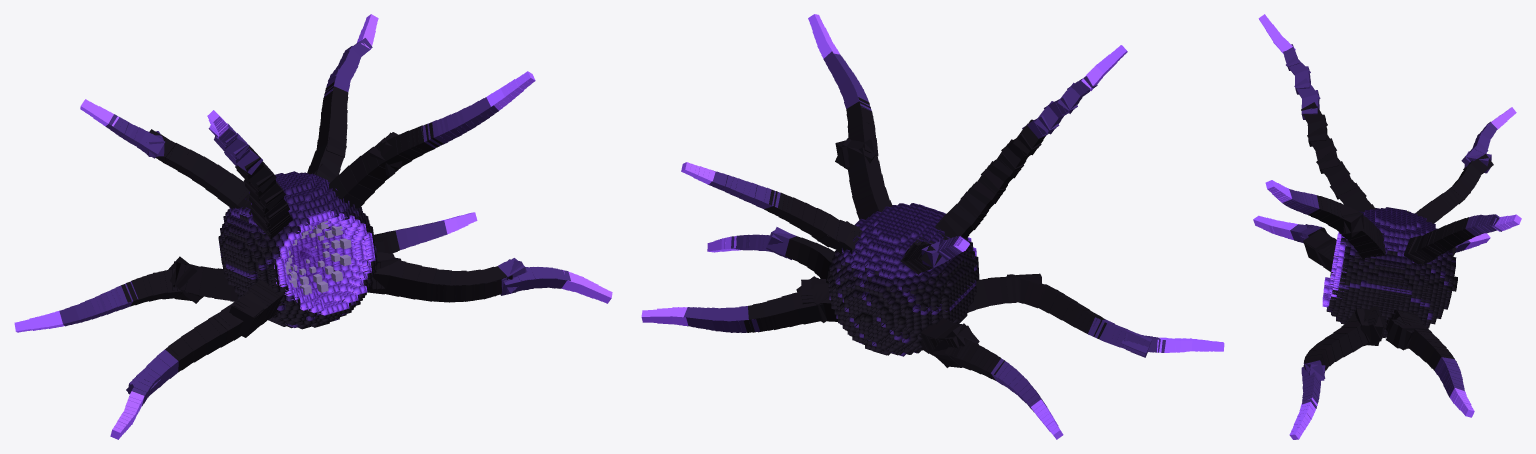
File: cosmic-horror.glb
3 renders of one model, left to right at view 1: azimuth 30°, elevation 25°; view 2: azimuth 150°, elevation 25°; view 3: azimuth 270°, elevation 25°, orthographic. The views are drawn at different scales.
Parts seen in each view (by area): view 1: body_voxels, gullet_voxels, tentacle_01_bone_08, tentacle_00_bone_06, tentacle_01_bone_09, tentacle_01_bone_10, tentacle_00_bone_09, tentacle_01_bone_06, tentacle_01_bone_07, tentacle_05_bone_03, tentacle_05_bone_07, tentacle_05_bone_02 (+1 smaller); view 2: body_voxels, tentacle_05_bone_02, tentacle_05_bone_03, tentacle_03_bone_05, tentacle_03_bone_06, tentacle_04_bone_03; view 3: body_voxels, gullet_voxels, tentacle_03_bone_04, tentacle_05_bone_06, tentacle_03_bone_03, tentacle_01_bone_03, tentacle_05_bone_02, tentacle_07_bone_04, tentacle_04_bone_04, tentacle_05_bone_03, tentacle_07_bone_02, tentacle_04_bone_06 (+23 smaller).
Boxes of the visible parts, box(x1,y1,x2,y2) form: body_voxels: box(218, 171, 377, 329); gullet_voxels: box(274, 210, 375, 315); tentacle_01_bone_08: box(427, 269, 461, 302); tentacle_00_bone_06: box(229, 299, 267, 337); tentacle_01_bone_09: box(446, 270, 479, 302); tentacle_01_bone_10: box(465, 269, 496, 301); tentacle_00_bone_09: box(203, 308, 239, 347); tentacle_01_bone_06: box(399, 262, 421, 299); tentacle_01_bone_07: box(415, 266, 443, 301); tentacle_05_bone_03: box(349, 153, 384, 190); tentacle_05_bone_07: box(379, 134, 415, 169); tentacle_05_bone_02: box(338, 165, 374, 201); body_voxels: box(828, 203, 979, 356); tentacle_05_bone_02: box(850, 177, 889, 219); tentacle_05_bone_03: box(849, 164, 884, 202); tentacle_03_bone_05: box(792, 288, 826, 324); tentacle_03_bone_06: box(776, 294, 800, 328); tentacle_04_bone_03: box(952, 184, 989, 229); body_voxels: box(1326, 207, 1457, 338); gullet_voxels: box(1322, 232, 1346, 307); tentacle_03_bone_04: box(1387, 319, 1427, 348); tentacle_05_bone_06: box(1335, 206, 1363, 237); tentacle_03_bone_03: box(1386, 312, 1424, 350); tentacle_01_bone_03: box(1355, 308, 1383, 345); tentacle_05_bone_02: box(1353, 220, 1382, 256); tentacle_07_bone_04: box(1421, 228, 1448, 257); tentacle_04_bone_04: box(1327, 161, 1354, 199); tentacle_05_bone_03: box(1348, 215, 1376, 246); tentacle_07_bone_02: box(1403, 235, 1434, 264); tentacle_04_bone_06: box(1315, 138, 1338, 173).
Size of the model in its own units: 8.6 by 4.82 by 4.56.
